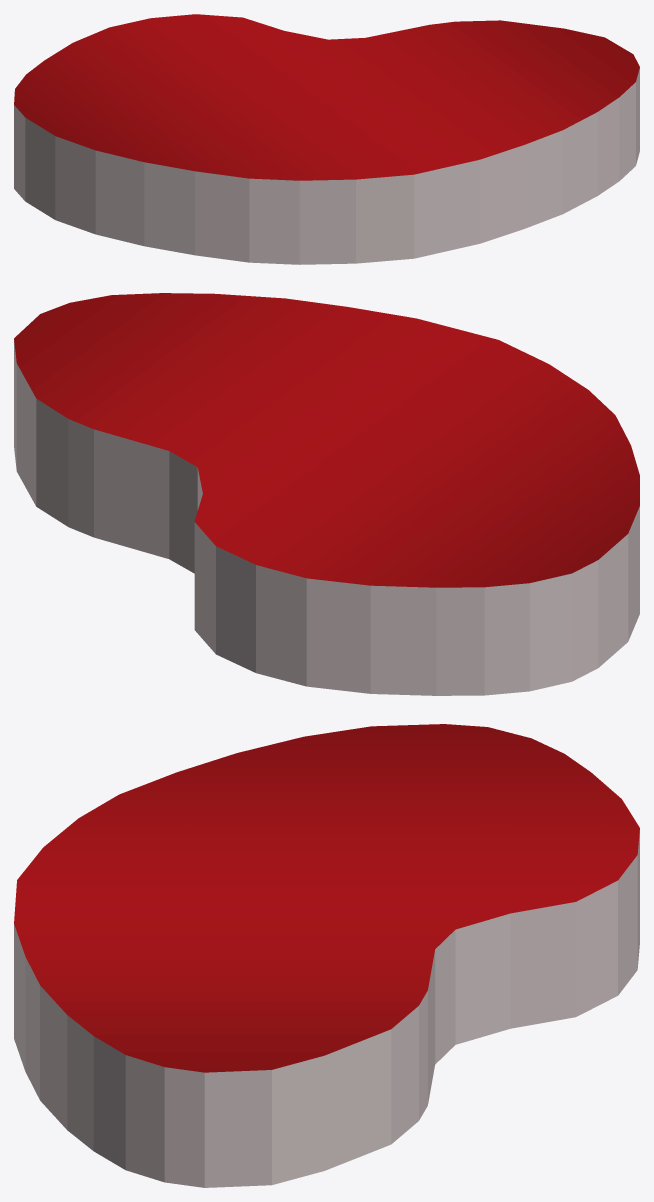
File: Carne.FBX
3 views of the same model, one above another, from view 1: azimuth 30°, elevation 25°; view 2: azimuth 150°, elevation 25°; view 3: azimuth 270°, elevation 25° (orthographic). The views are drawn at different scales.
Parts seen in each view (by area): view 1: node_id4; view 2: node_id4; view 3: node_id4.
Part boxes in pixels (left/top/right/bottom): node_id4: left=14, top=14, right=639, bottom=264; node_id4: left=14, top=293, right=639, bottom=695; node_id4: left=14, top=724, right=639, bottom=1187.
Bounding box in the file's own units: 0.512 × 0.079 × 0.3885.
Materials: 1 (1 with a texture image).
